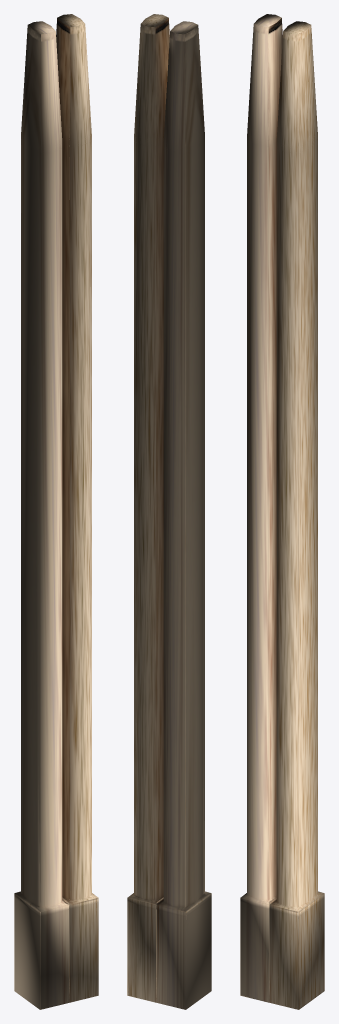
The model's file is chopstick.glb.
The picture shows the model from 3 angles, left to right: view 1: azimuth 30°, elevation 25°; view 2: azimuth 150°, elevation 25°; view 3: azimuth 330°, elevation 25°; orthographic projection.
Visible parts, largest first — view 1: chopstick; view 2: chopstick; view 3: chopstick.
Boxes of the visible parts, x1,y1,x2,y2 form: chopstick: [14, 14, 98, 1009]; chopstick: [127, 14, 211, 1009]; chopstick: [240, 14, 324, 1009].
Size of the model in its own units: 0.9967 by 15.76 by 0.7604.
1 material, 1 textured.
